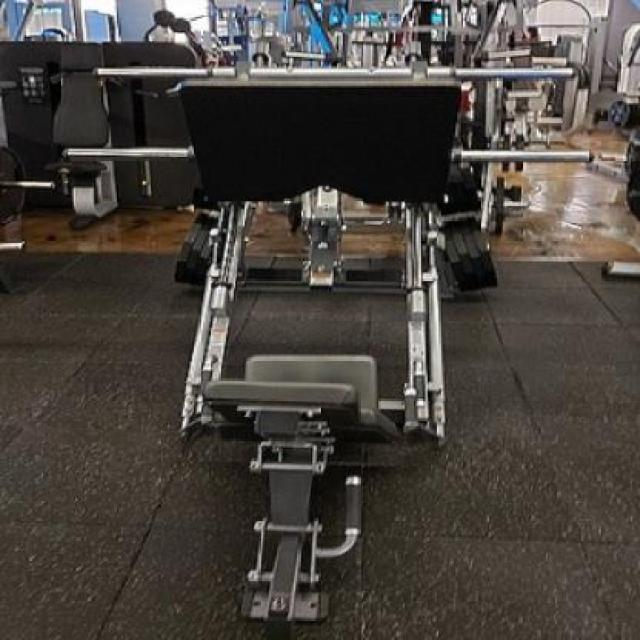leg press: (46, 46, 631, 640)
